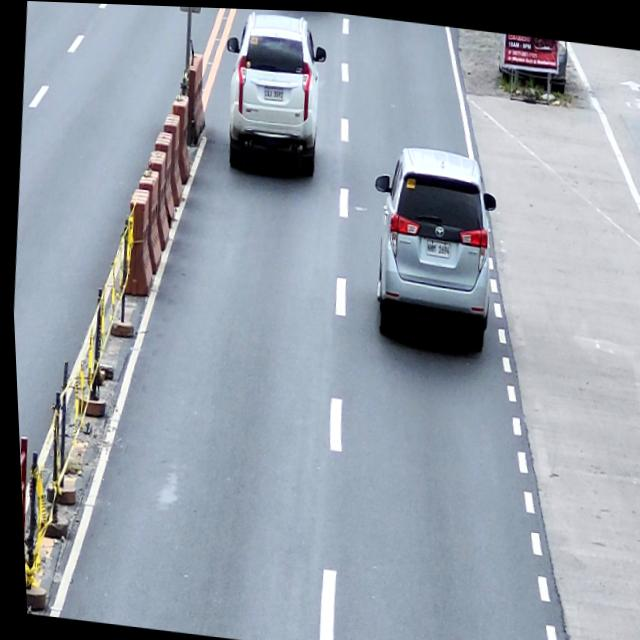Car: (358, 138, 504, 350), (214, 6, 333, 178)
License-Plate: (423, 237, 449, 254), (263, 84, 283, 99)
